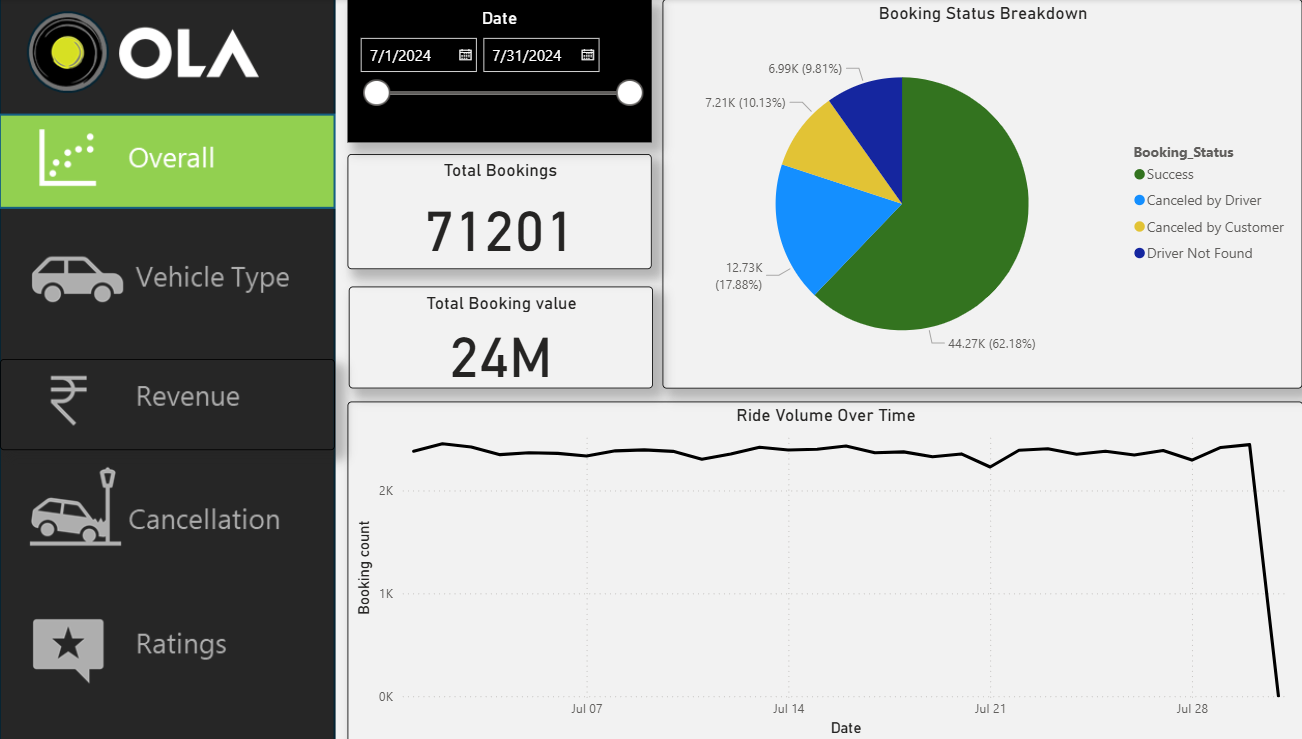

What the dashboard file says about the page in this screenshot:
{"tool":"powerbi","page":{"name":"Overall","canvas":[1280,720],"ordinal":0},"visuals":[{"type":"actionButton","box":[0,217.2,323.3,89.3],"z":0},{"type":"actionButton","box":[0,347.5,323.3,88.1],"z":1000},{"type":"actionButton","box":[0,463.3,323.3,90.5],"z":2000},{"type":"actionButton","box":[0,587.5,323.3,90.5],"z":3000},{"type":"lineChart","title":"Ride Volume Over Time","fields":{"Y":["CountNonNull(July.Booking_ID)"],"Category":["July.Date"]},"box":[335,388.8,922.5,331.2],"z":4000},{"type":"pieChart","title":"Booking Status Breakdown","fields":{"Category":["July.Booking_Status"],"Y":["CountNonNull(July.Booking_Status)"]},"box":[640,0,617.5,376.2],"z":5000},{"type":"slicer","title":"Date","fields":{"Values":["July.Date"]},"box":[335,0,293.8,138.8],"z":6000},{"type":"card","title":"Total Bookings","fields":{"Values":["CountNonNull(July.Booking_ID)"]},"box":[335,150,293.8,111.2],"z":7000},{"type":"card","title":"Total Booking value","fields":{"Values":["Sum(July.Booking_Value)"]},"box":[336.2,277.5,293.8,98.8],"z":8000}]}

Visuals, with their boxes in screenshot pixels (x1, y1, x2, y2), scaled from the page's 1280x720 canvas onto the 1302x739 screenshot:
actionButton: left=0, top=223, right=329, bottom=315
actionButton: left=0, top=357, right=329, bottom=447
actionButton: left=0, top=476, right=329, bottom=568
actionButton: left=0, top=603, right=329, bottom=696
"Ride Volume Over Time" lineChart: left=341, top=399, right=1279, bottom=738
"Booking Status Breakdown" pieChart: left=651, top=0, right=1279, bottom=386
"Date" slicer: left=341, top=0, right=640, bottom=142
"Total Bookings" card: left=341, top=154, right=640, bottom=268
"Total Booking value" card: left=342, top=285, right=641, bottom=386
